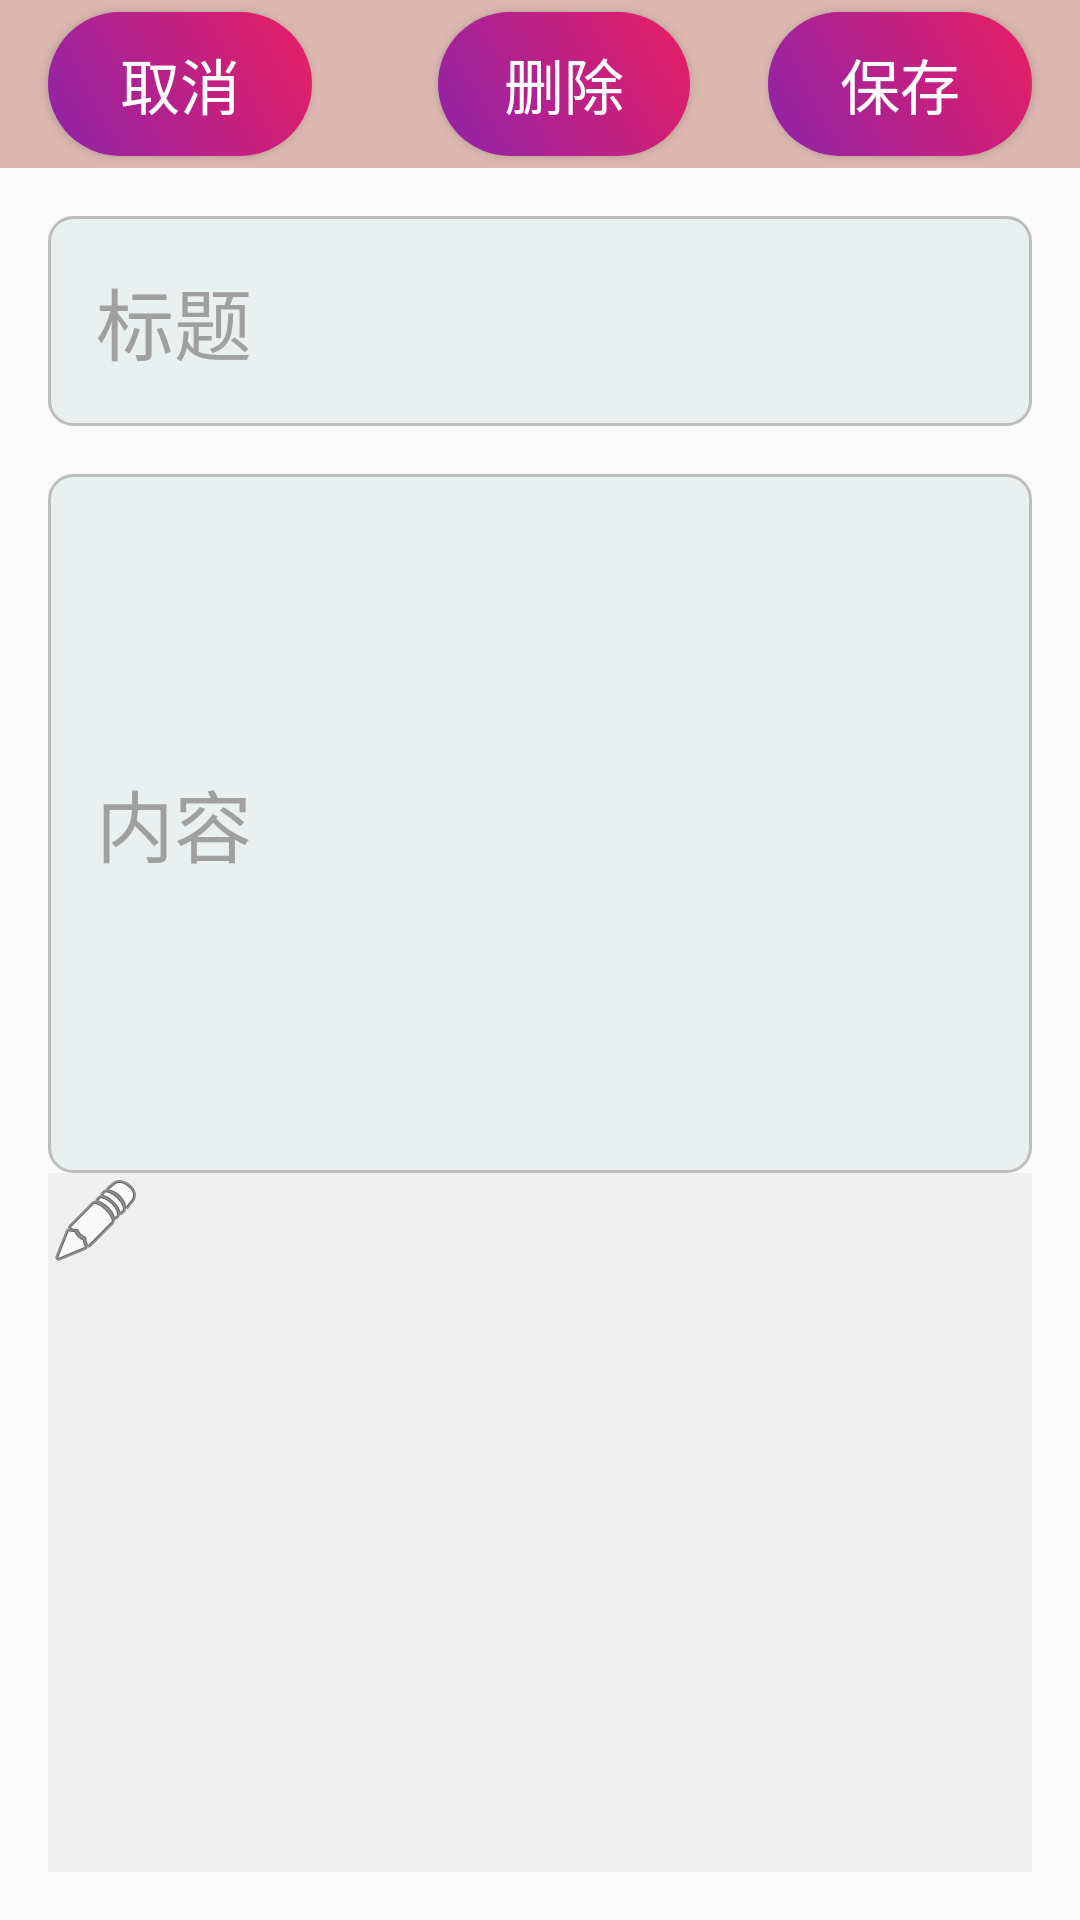

Where to tap for icons on this 1080×1920 app screen, as (x,y):
edit: (95,1220)
